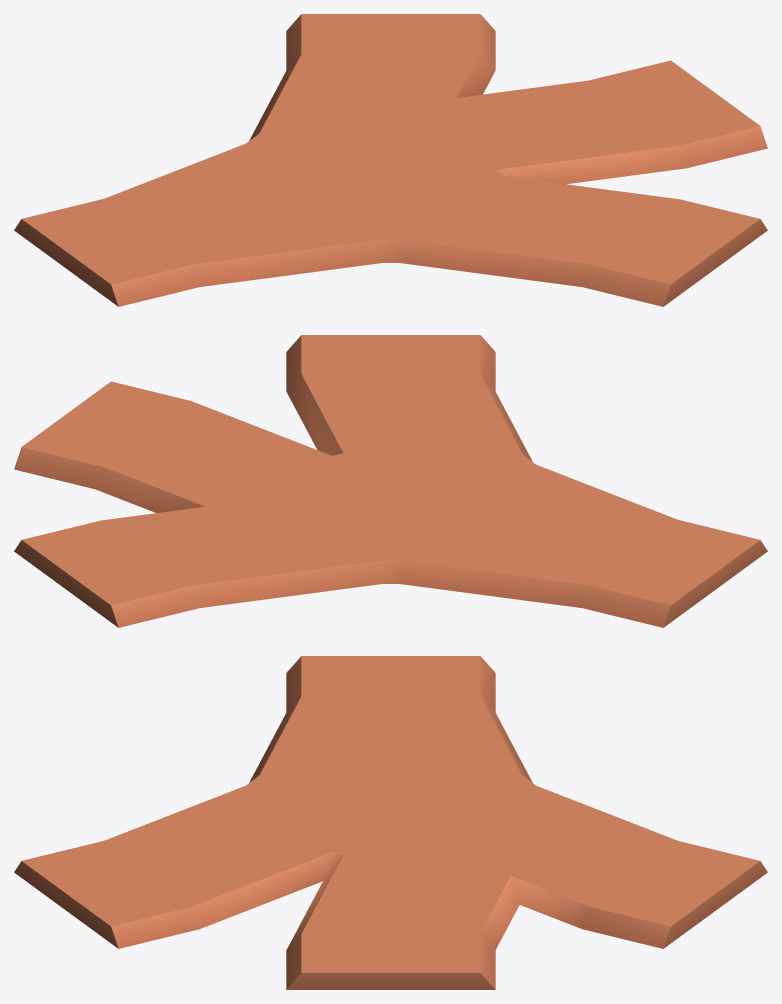
The model's file is path-intersectionD.fbx.
3 views of the same model, one above another, from view 1: azimuth 30°, elevation 25°; view 2: azimuth 150°, elevation 25°; view 3: azimuth 270°, elevation 25° (orthographic).
Parts seen in each view (by area): view 1: path_intersectionD; view 2: path_intersectionD; view 3: path_intersectionD.
Boxes of the visible parts, box(x1,y1,x2,y2) form: path_intersectionD: box(14, 14, 767, 306); path_intersectionD: box(14, 335, 767, 627); path_intersectionD: box(14, 656, 767, 989).
Size of the model in its own units: 100 by 2.5 by 101.
1 material, 1 textured.
